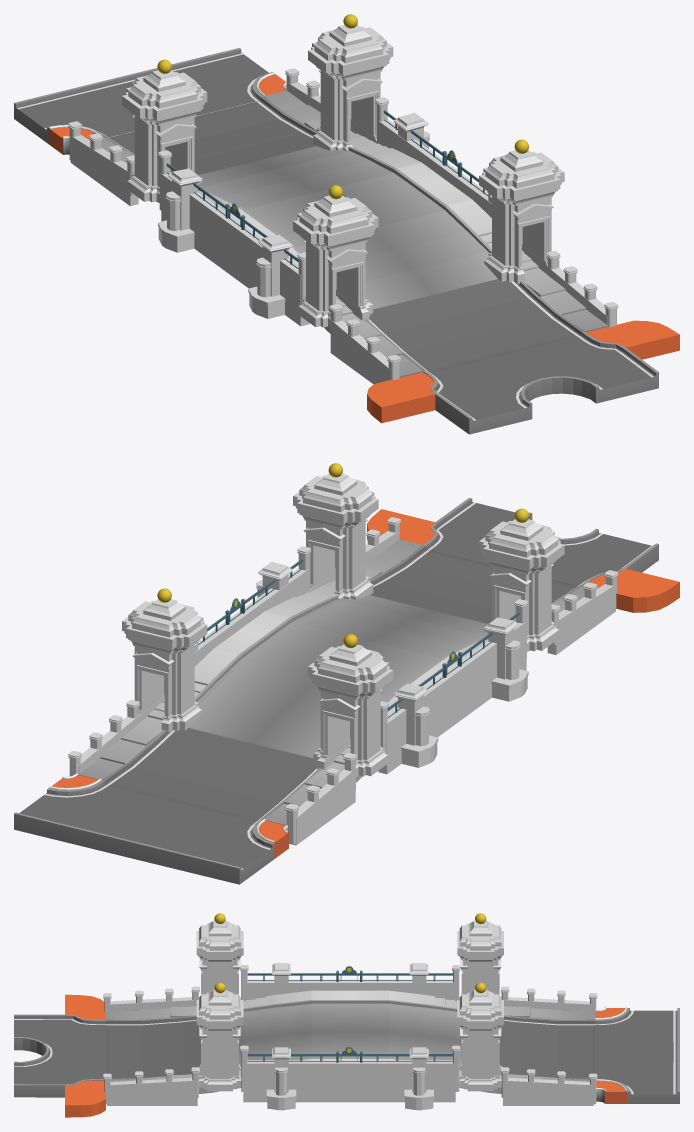
Rendered from FullBridge.fbx.
3 renders of one model, top to bottom at view 1: azimuth 30°, elevation 25°; view 2: azimuth 150°, elevation 25°; view 3: azimuth 270°, elevation 25°, orthographic. The views are drawn at different scales.
Visible parts, largest first — view 1: Cube.082; view 2: Cube.082; view 3: Cube.082.
Boxes of the visible parts, x1,y1,x2,y2 form: Cube.082: (14, 14, 679, 434); Cube.082: (14, 463, 679, 884); Cube.082: (14, 913, 679, 1117).
Bounding box in the file's own units: 944 × 459 × 2397.
3 materials, 1 textured.
